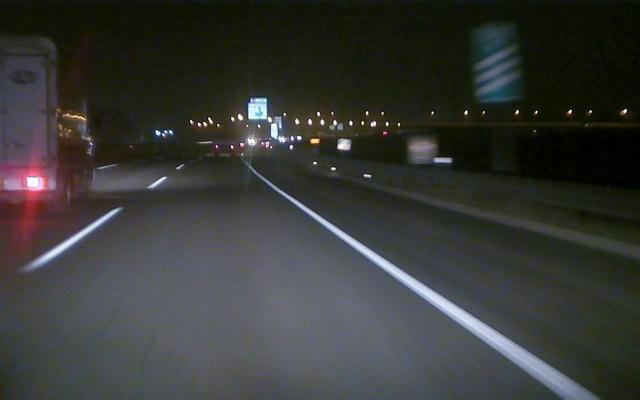lane: (261, 177, 599, 397), (11, 176, 169, 276)
